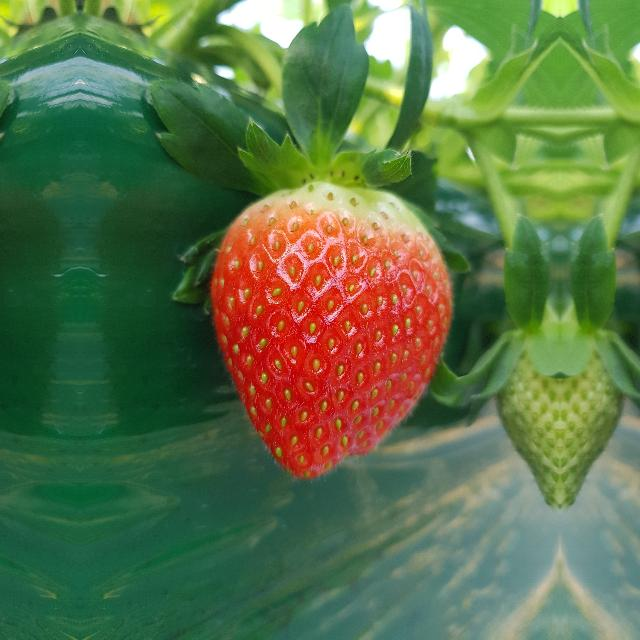Health_100: (208, 180, 452, 480)
